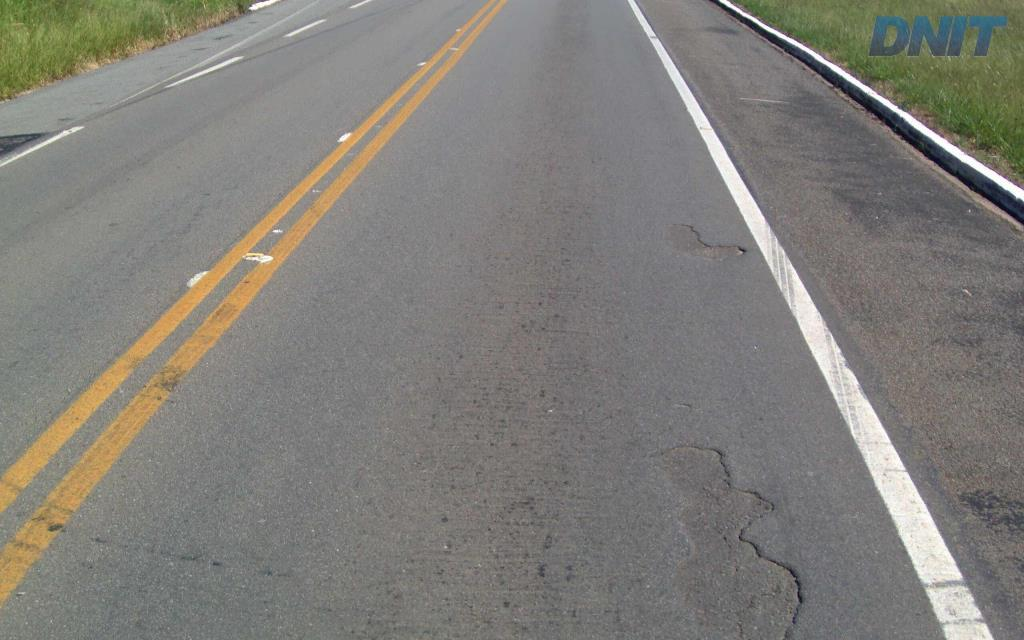pothole: (650, 438, 812, 638), (660, 220, 747, 266)
